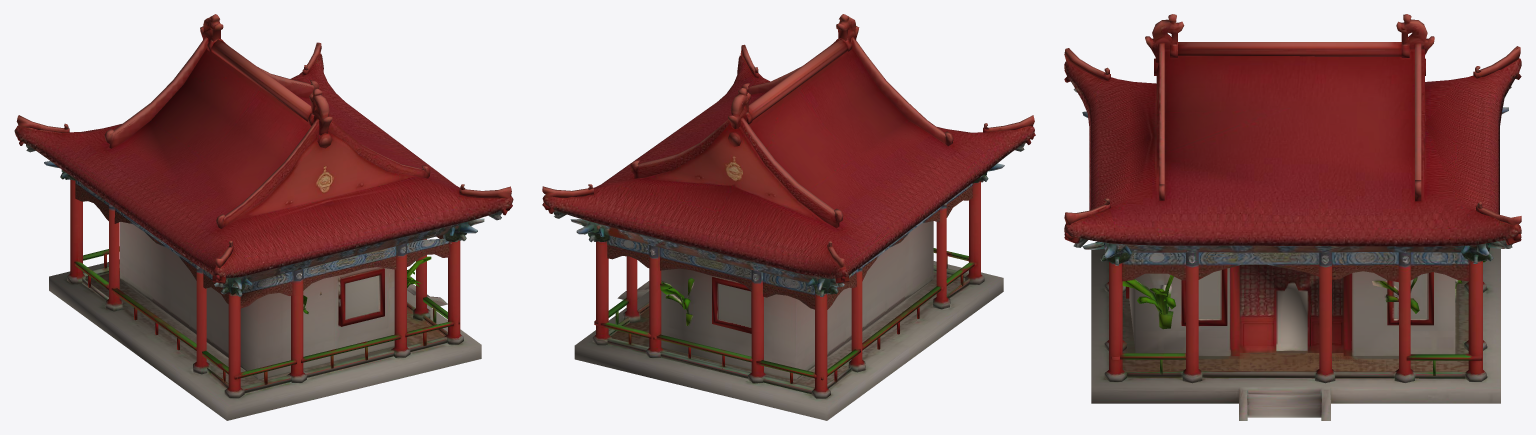
File: yihong.glb
3 renders of one model, left to right at view 1: azimuth 30°, elevation 25°; view 2: azimuth 150°, elevation 25°; view 3: azimuth 270°, elevation 25°, orthographic. The views are drawn at different scales.
Parts seen in each view (by area): view 1: tripo_node_83832fe5-32c3-4ed9-93d3-61ec32c6c49e; view 2: tripo_node_83832fe5-32c3-4ed9-93d3-61ec32c6c49e; view 3: tripo_node_83832fe5-32c3-4ed9-93d3-61ec32c6c49e.
Part boxes in pixels (x1,y1,x2,y2): tripo_node_83832fe5-32c3-4ed9-93d3-61ec32c6c49e: (14, 14, 513, 420); tripo_node_83832fe5-32c3-4ed9-93d3-61ec32c6c49e: (542, 14, 1035, 420); tripo_node_83832fe5-32c3-4ed9-93d3-61ec32c6c49e: (1064, 14, 1521, 420).
Bounding box in the file's own units: 0.9082 × 0.7637 × 0.998.
1 material, 1 textured.
